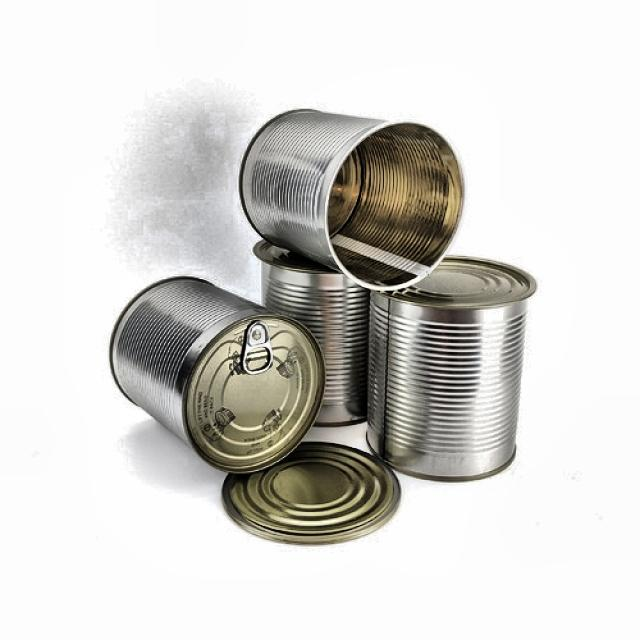can: (233, 103, 473, 300), (106, 269, 331, 479), (364, 246, 540, 486), (249, 221, 387, 434), (216, 430, 412, 562)
